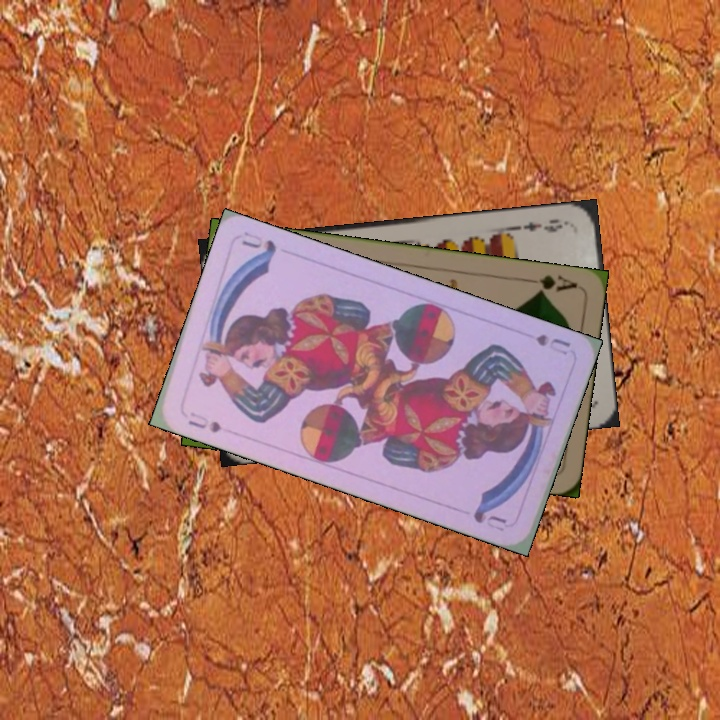E9: (513, 215, 571, 235)
GA: (521, 271, 580, 297)
SU: (531, 330, 573, 358), (184, 408, 224, 436)
